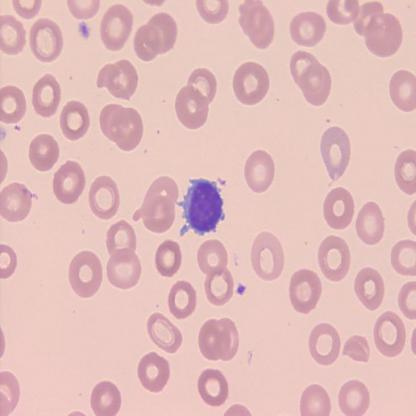Lymphocyte: (176, 176, 226, 238)
